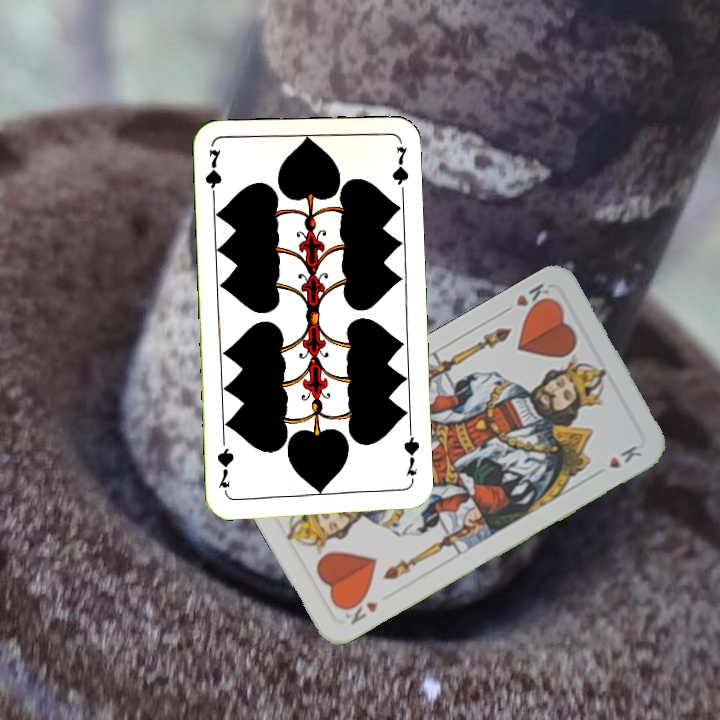G7: (201, 145, 224, 204), (399, 428, 422, 478)
HK: (497, 279, 556, 317), (339, 592, 381, 628)
